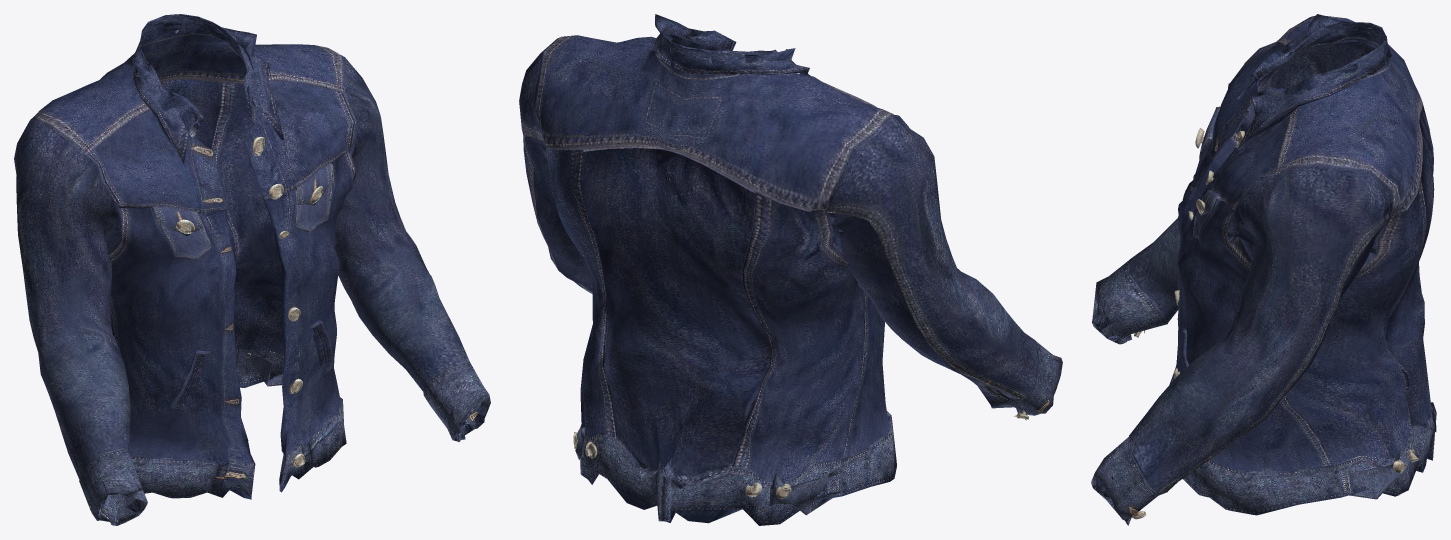
Rendered from jacket-denim.glb.
3 views of the same model, side by side, from view 1: azimuth 30°, elevation 25°; view 2: azimuth 150°, elevation 25°; view 3: azimuth 270°, elevation 25° (orthographic). The views are drawn at different scales.
Visible parts, largest first — view 1: jacket-denim; view 2: jacket-denim; view 3: jacket-denim.
Part boxes in pixels (x1,y1,x2,y2): jacket-denim: [14, 14, 490, 525]; jacket-denim: [519, 14, 1062, 525]; jacket-denim: [1091, 14, 1436, 525].
Size of the model in its own units: 0.6362 by 0.6277 by 0.4623.
1 material, 1 textured.
